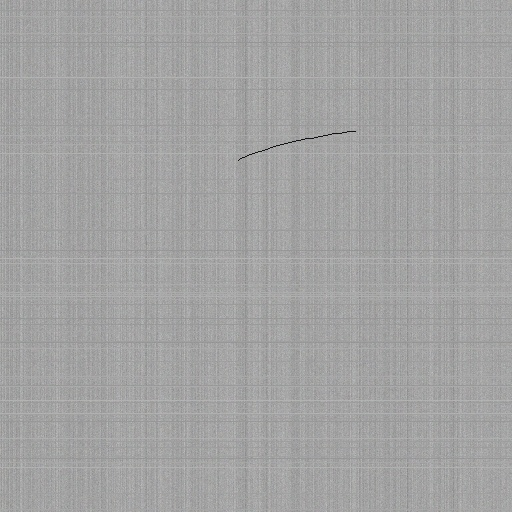scratch: (233, 126, 360, 165)
